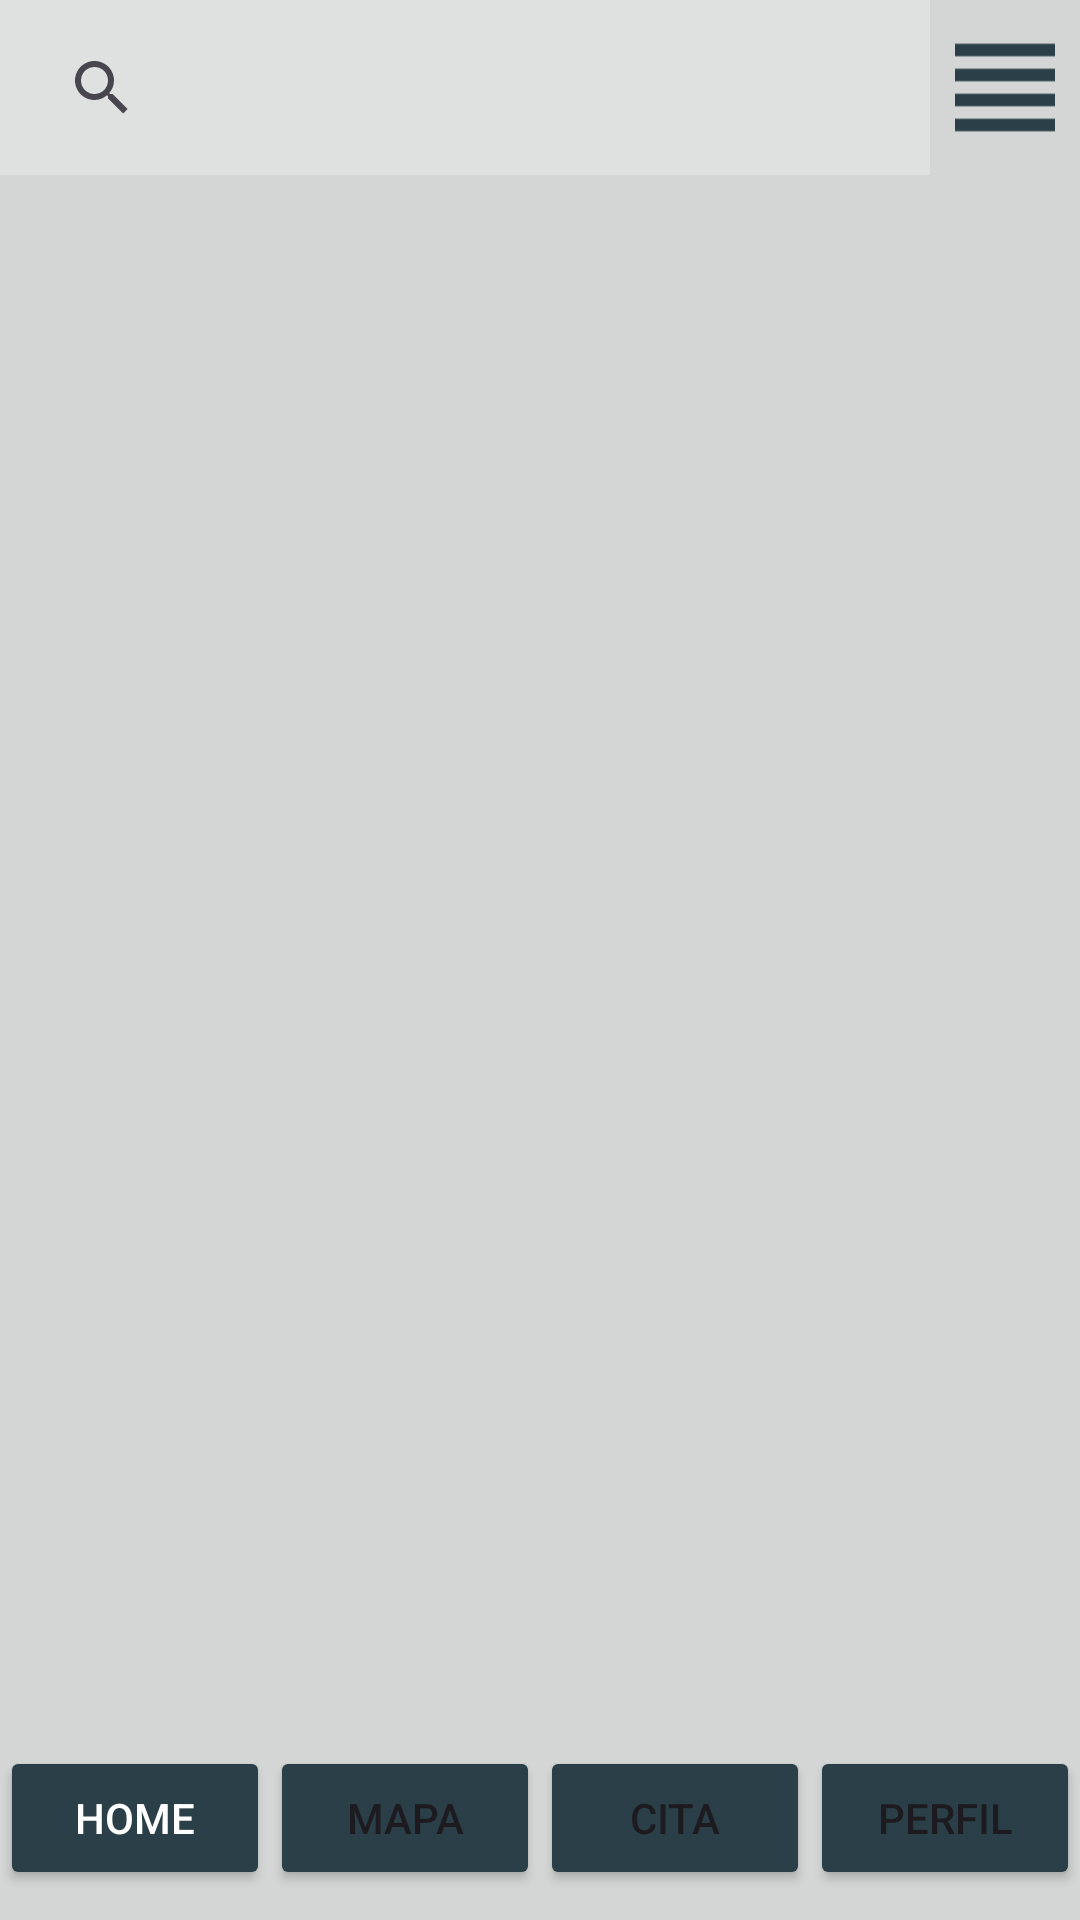

Named icons in this screenshot (1080 x 1920) and their bounding boxes, (x1, y1, x2, y2):
view headline: (955, 43, 1055, 132)
